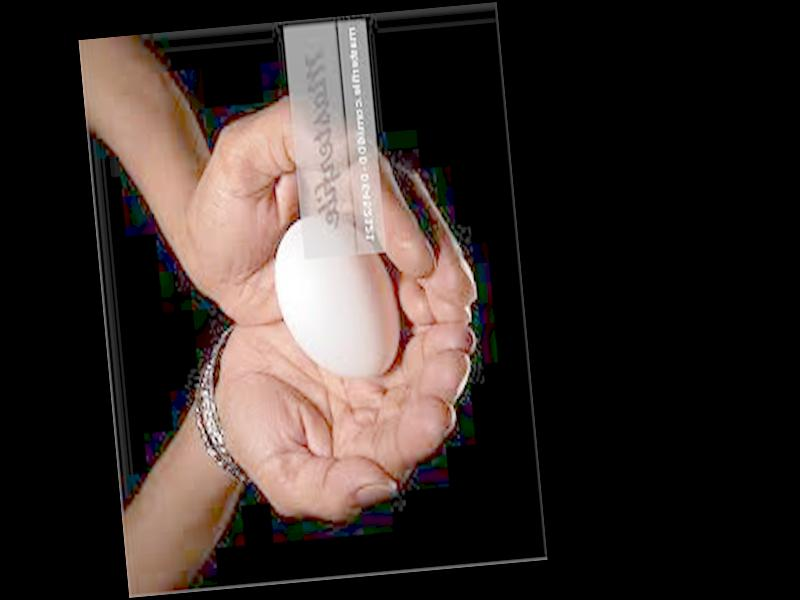Eggs: (269, 209, 405, 386)
